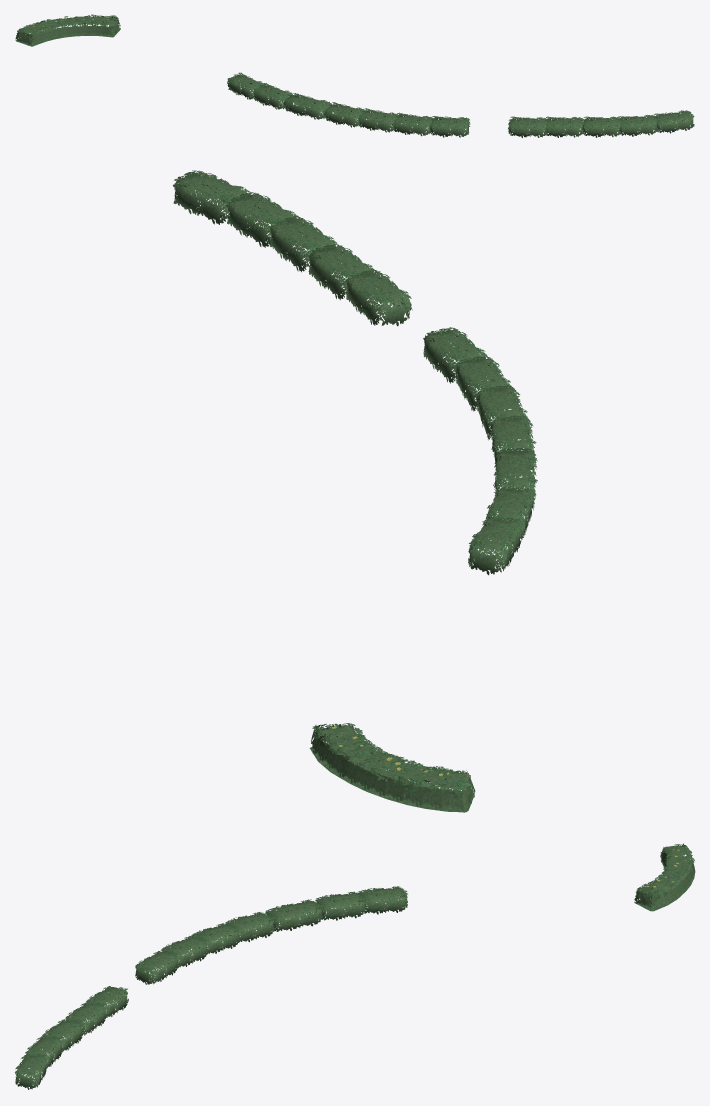
Rendered from pref_sm_beach_bk_pointmol_longplant_R_lv2.fbx.
3 views of the same model, one above another, from view 1: azimuth 30°, elevation 25°; view 2: azimuth 150°, elevation 25°; view 3: azimuth 270°, elevation 25° (orthographic). The views are drawn at different scales.
Parts seen in each view (by area): view 1: pref_sm_beach_bk_pointmol_longplant_R_lv2; view 2: pref_sm_beach_bk_pointmol_longplant_R_lv2; view 3: pref_sm_beach_bk_pointmol_longplant_R_lv2.
Part boxes in pixels (x1,y1,x2,y2): pref_sm_beach_bk_pointmol_longplant_R_lv2: (15, 14, 694, 137); pref_sm_beach_bk_pointmol_longplant_R_lv2: (173, 170, 537, 812); pref_sm_beach_bk_pointmol_longplant_R_lv2: (15, 843, 695, 1089).
Bounding box in the file's own units: 47.71 × 2.98 × 55.28.
